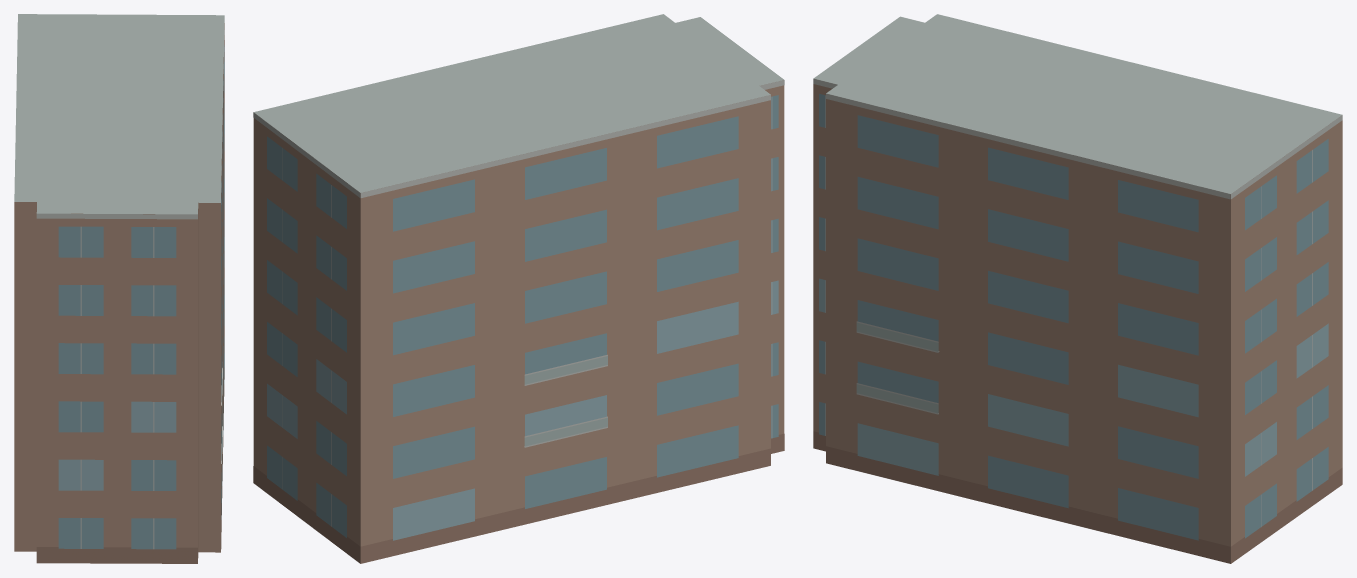
Rendered from survey-upis-32686245.glb.
3 views of the same model, side by side, from view 1: azimuth 30°, elevation 25°; view 2: azimuth 150°, elevation 25°; view 3: azimuth 270°, elevation 25° (orthographic). The views are drawn at different scales.
Parts seen in each view (by area): view 1: survey-upis-32686245.tmp; view 2: survey-upis-32686245.tmp; view 3: survey-upis-32686245.tmp.
Part boxes in pixels (x1,y1,x2,y2): survey-upis-32686245.tmp: (14,14,224,563); survey-upis-32686245.tmp: (253,14,784,563); survey-upis-32686245.tmp: (813,14,1342,563).
Size of the model in its own units: 17.78 by 17 by 22.07.
